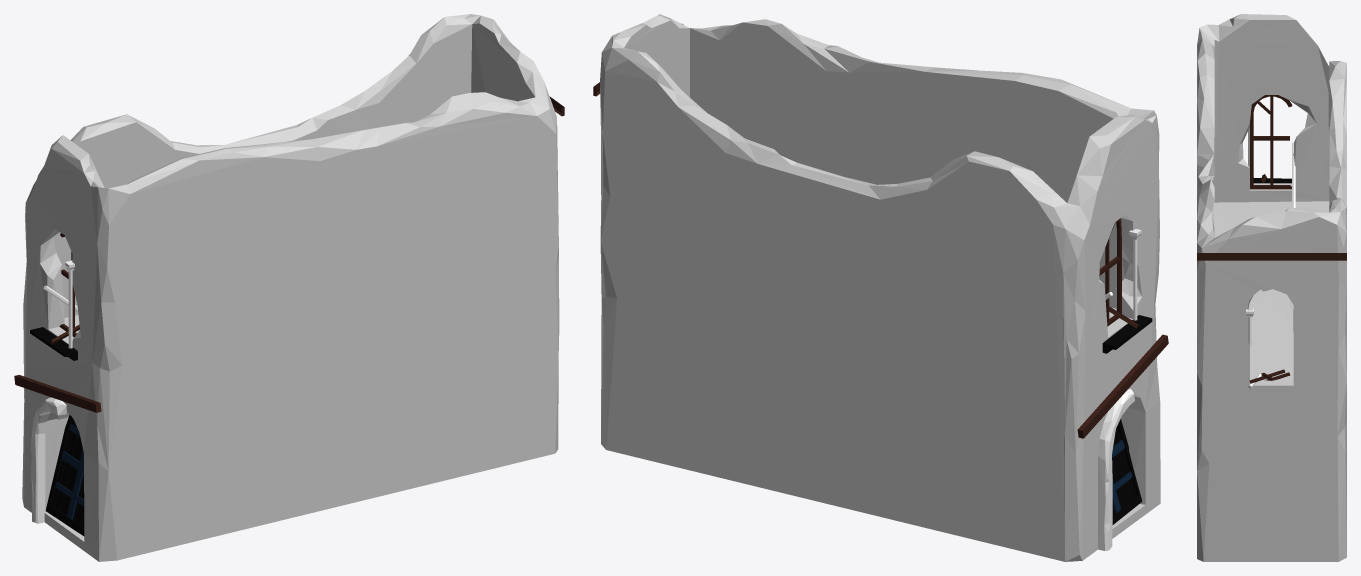
Rendered from civilian_house_ruin_c.FBX.
3 views of the same model, side by side, from view 1: azimuth 30°, elevation 25°; view 2: azimuth 150°, elevation 25°; view 3: azimuth 270°, elevation 25° (orthographic). The views are drawn at different scales.
Visible parts, largest first — view 1: civilian_house_ruin_c; view 2: civilian_house_ruin_c; view 3: civilian_house_ruin_c.
Part boxes in pixels (left/top/right/bottom): civilian_house_ruin_c: left=14, top=14, right=564, bottom=561; civilian_house_ruin_c: left=593, top=14, right=1168, bottom=561; civilian_house_ruin_c: left=1197, top=14, right=1346, bottom=561.
Bounding box in the file's own units: 1094 × 801 × 313.
